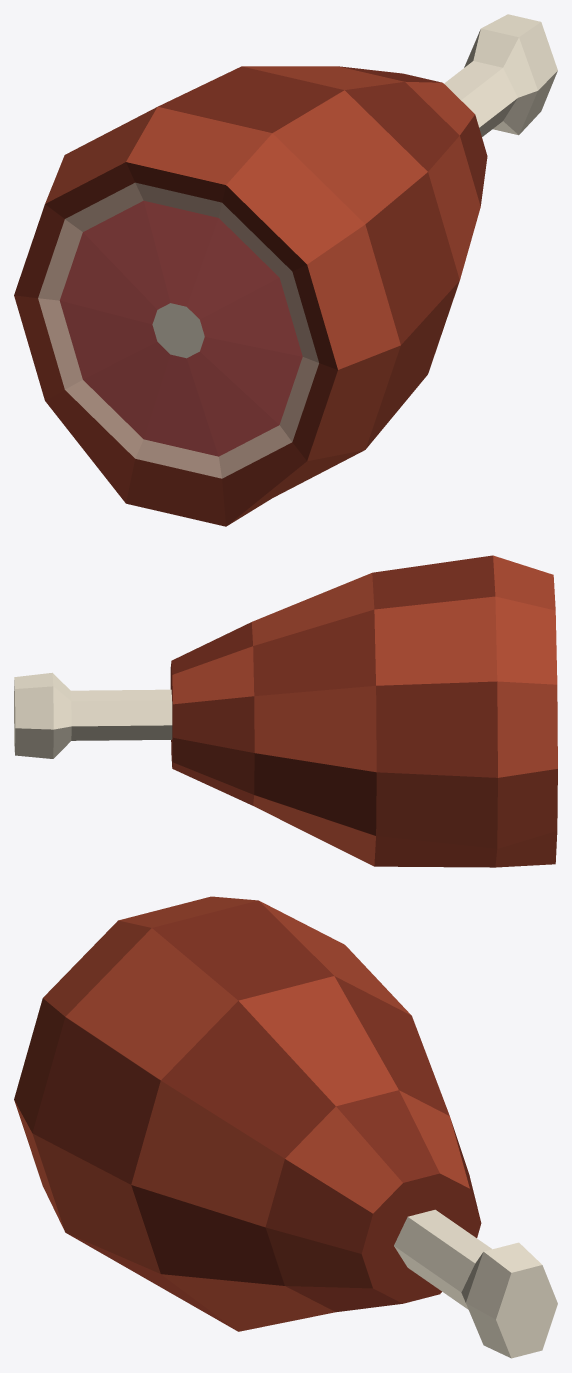
File: FMS_Food_Ham.fbx
3 views of the same model, one above another, from view 1: azimuth 30°, elevation 25°; view 2: azimuth 150°, elevation 25°; view 3: azimuth 270°, elevation 25° (orthographic). The views are drawn at different scales.
Parts seen in each view (by area): view 1: item_food_ham; view 2: item_food_ham; view 3: item_food_ham.
Part boxes in pixels (<box>): item_food_ham: <box>14,14,557,526</box>; item_food_ham: <box>14,555,557,867</box>; item_food_ham: <box>14,896,557,1358</box>.
Bounding box in the file's own units: 0.3041 × 0.1662 × 0.2347.
Materials: 1 (1 with a texture image).
